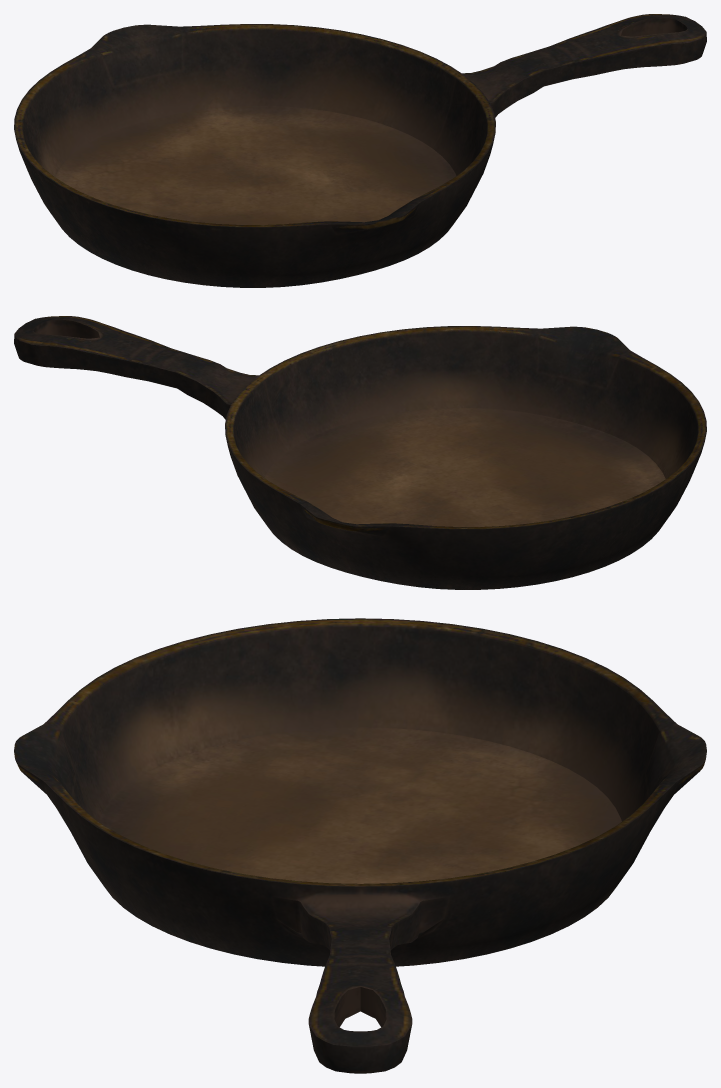
File: pan.fbx
3 views of the same model, one above another, from view 1: azimuth 30°, elevation 25°; view 2: azimuth 150°, elevation 25°; view 3: azimuth 270°, elevation 25° (orthographic). The views are drawn at different scales.
Visible parts, largest first — view 1: Circle.001; view 2: Circle.001; view 3: Circle.001.
Boxes of the visible parts, <box> form: Circle.001: <box>14,14,706,287</box>; Circle.001: <box>14,316,706,589</box>; Circle.001: <box>14,618,706,1073</box>.
Size of the model in its own units: 2421 by 294 by 1688.
Materials: 1 (1 with a texture image).
